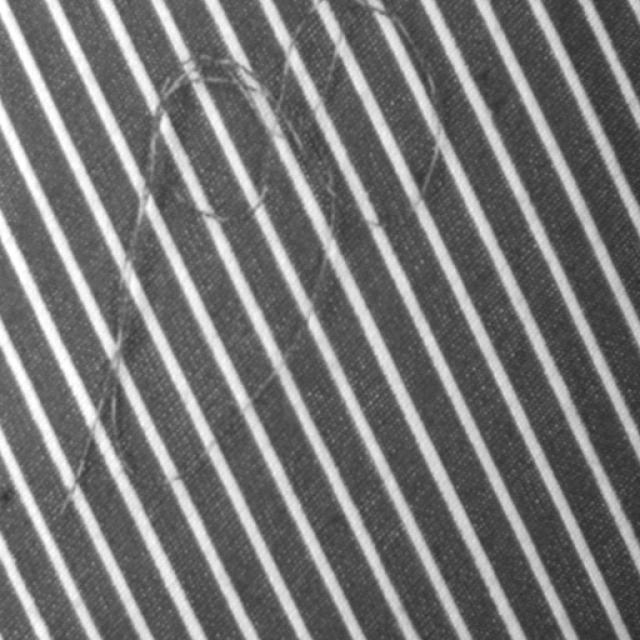Foreign-Body-Defect: (62, 65, 226, 512), (356, 0, 440, 104), (171, 151, 282, 226), (296, 171, 339, 338), (236, 348, 289, 414), (269, 35, 296, 141), (230, 65, 269, 119), (324, 34, 344, 90), (420, 139, 439, 196)
